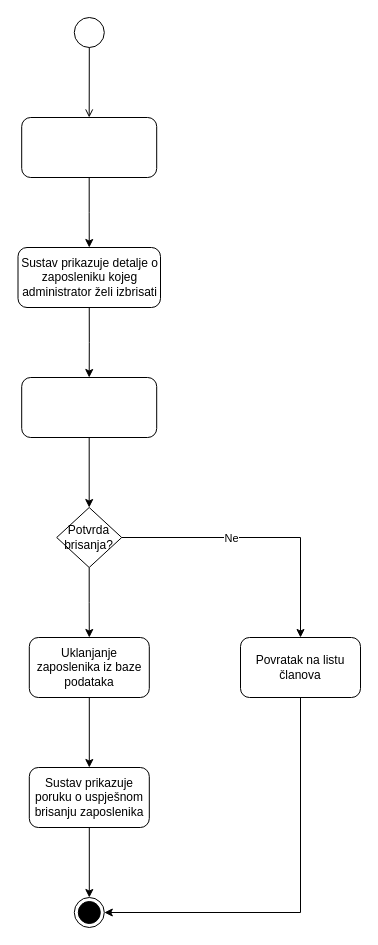
This 378x945 diagram has some shape labels left out. Here are the shapes that lost their labels. From the top down, the box of each, then its label:
(21, 116, 157, 178): Administrator odabire zaposlenika kojeg želi izbrisati
(21, 376, 157, 438): Potvrda brisanja zaposlenika
